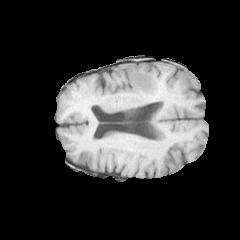glioma: (122, 63, 161, 105)
